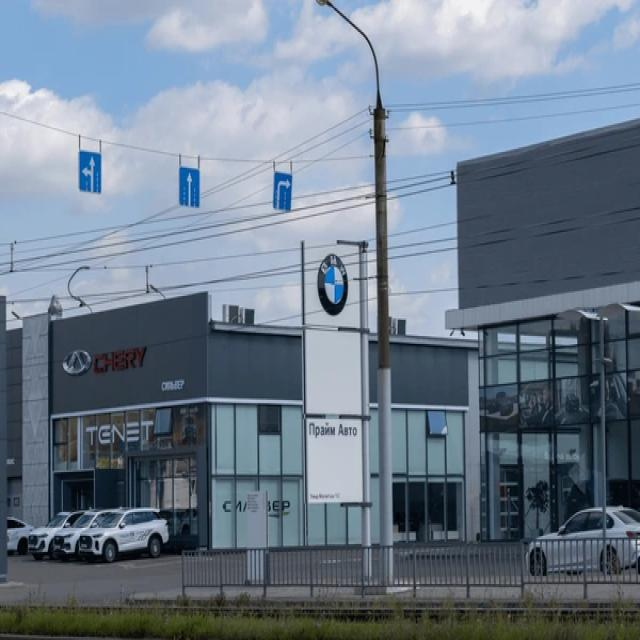bmw: (316, 254, 352, 316)
cherry: (57, 348, 93, 377)
